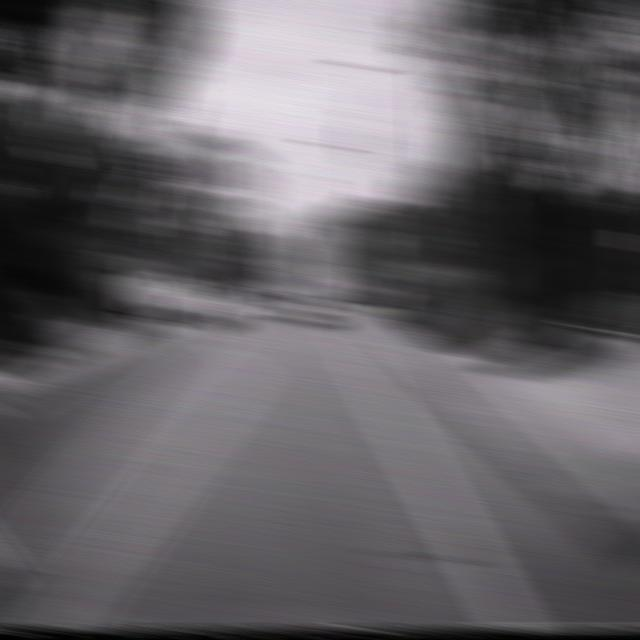stop_sign: (358, 225, 392, 254)
